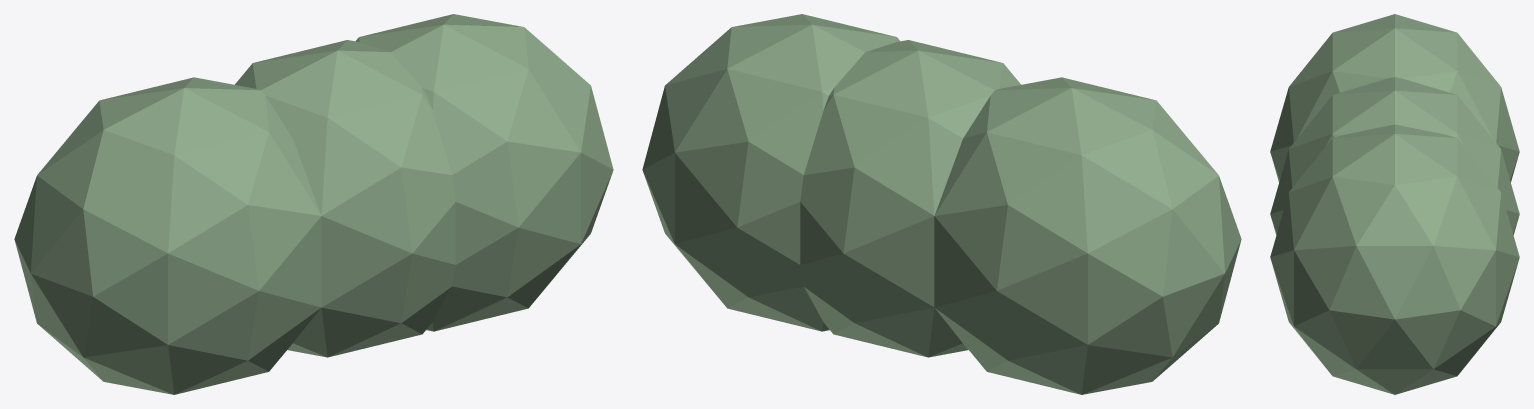
File: shrub.glb
3 views of the same model, side by side, from view 1: azimuth 30°, elevation 25°; view 2: azimuth 150°, elevation 25°; view 3: azimuth 270°, elevation 25° (orthographic). The views are drawn at different scales.
Parts seen in each view (by area): view 1: world; view 2: world; view 3: world.
Boxes of the visible parts, x1,y1,x2,y2 form: world: (14,14,613,394); world: (642,14,1241,394); world: (1270,14,1519,394).
Size of the model in its own units: 2.4 by 1.2 by 1.1.
